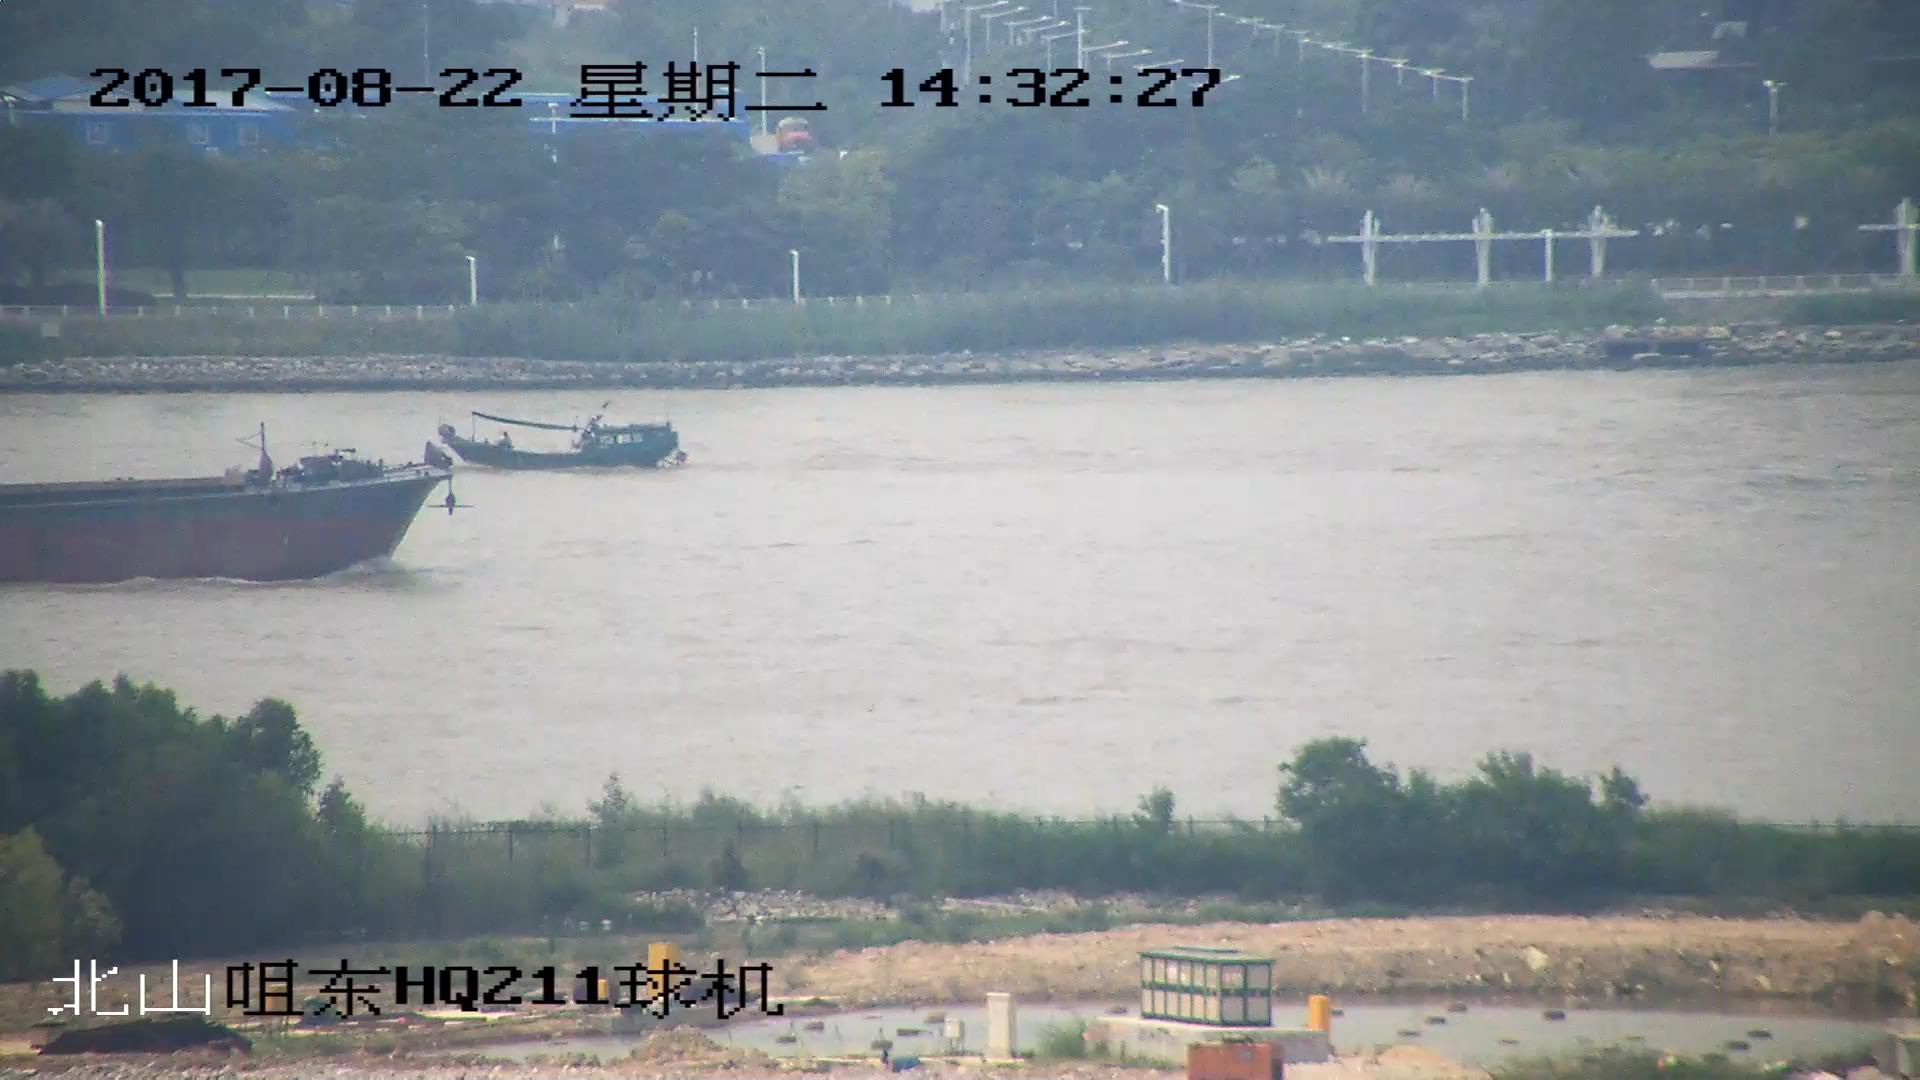Ship: (3, 430, 451, 585), (440, 409, 686, 472)
